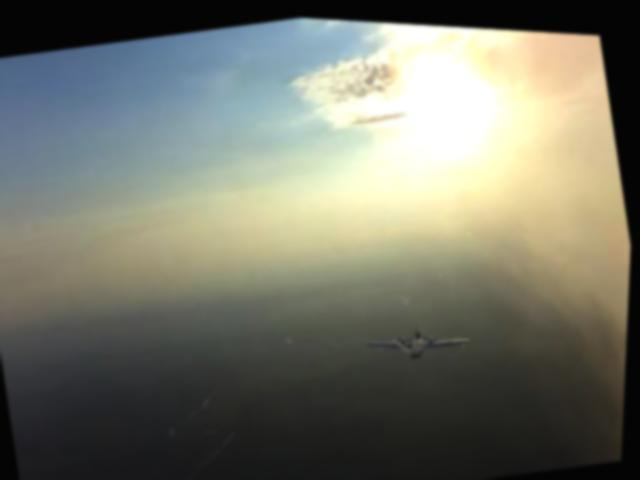iha: (361, 305, 477, 367)
